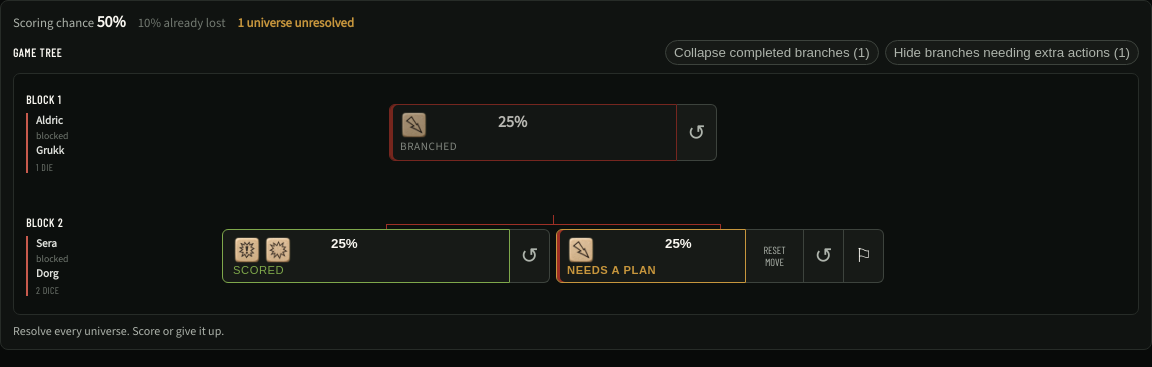
BranchStrip game tree › can hide branches needing extra actions without giving them up
Click the button "Hide branches needing extra actions (1)". click: (1012, 52)
box: [885, 40, 1139, 65]
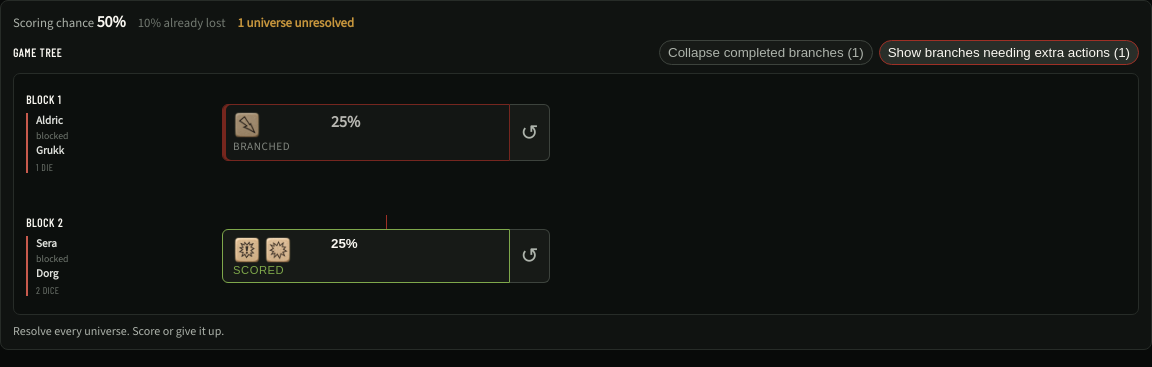
Expected: the button "Show branches needing extra actions (1)" is shown
Click the button "Show branches needing extra actions (1)". click: (1009, 52)
box: [879, 40, 1139, 65]
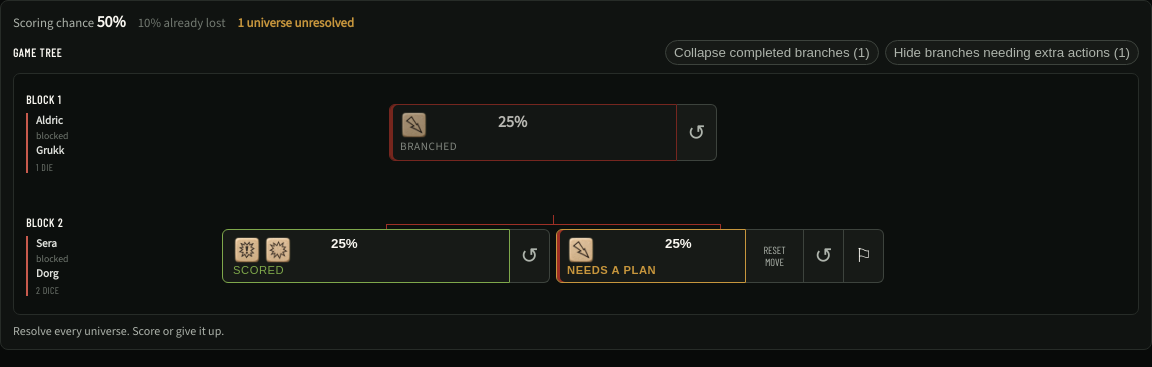
Expected: the button "25% Needs a plan" is shown, [556, 228, 746, 282]
